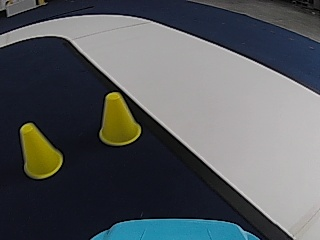cone: (18, 122, 62, 179), (98, 91, 141, 146)
